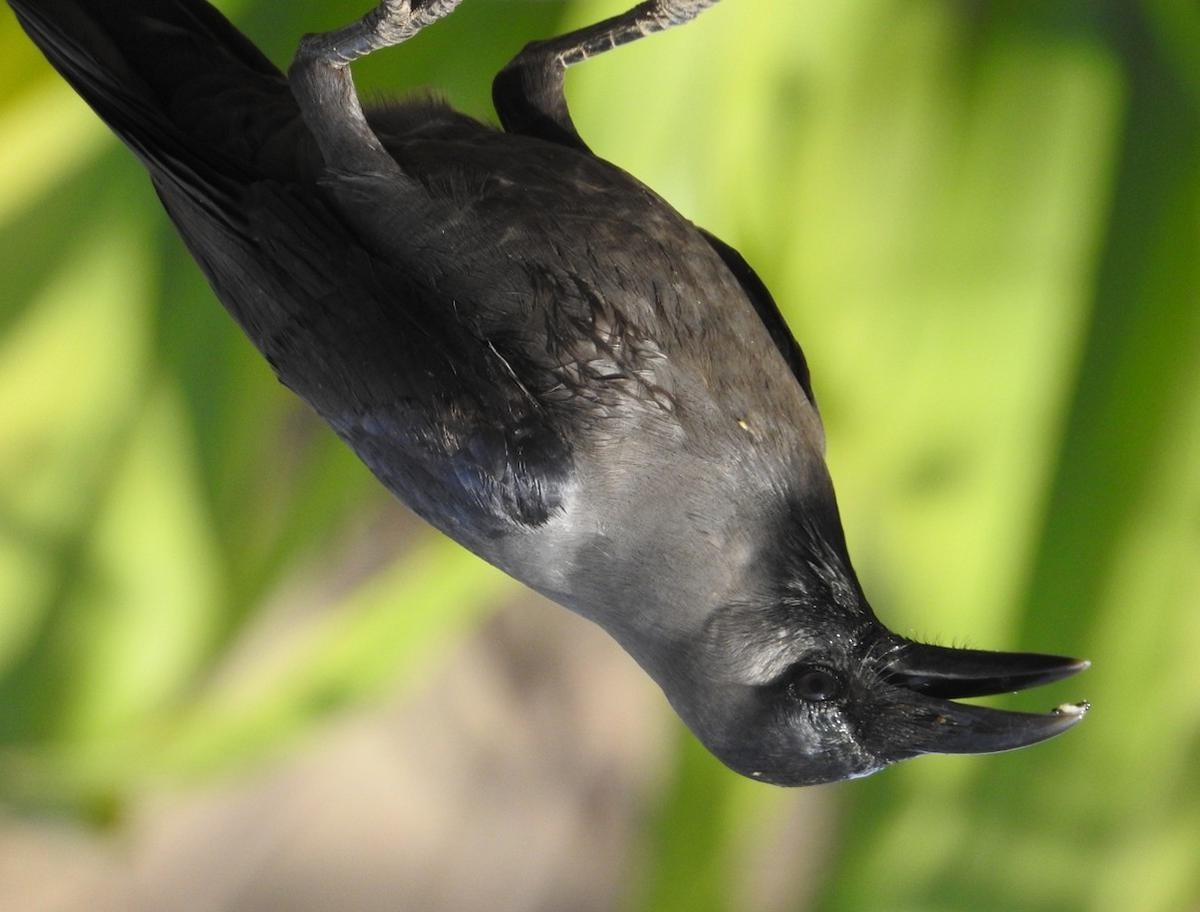crow: (17, 1, 1110, 806)
